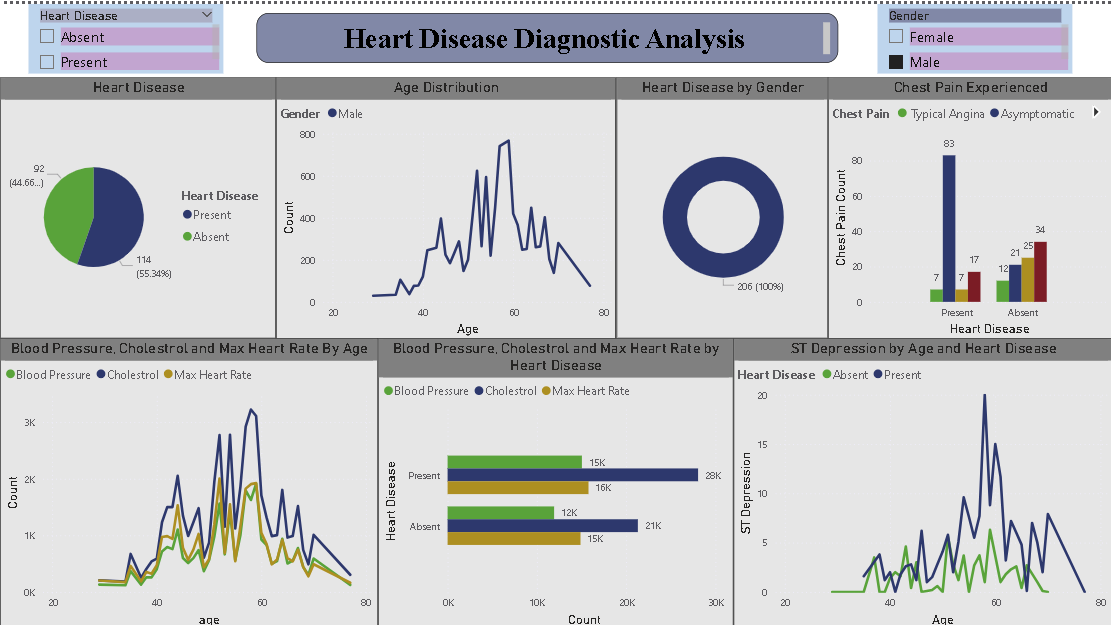

The page's visual inventory and layout, read from the dashboard file:
{"tool":"powerbi","page":{"name":"Dashboard","canvas":[1280,720],"ordinal":0},"visuals":[{"type":"donutChart","title":"Heart Disease by Gender","fields":{"Category":["heart_disease_dataset.Gender"],"Y":["CountNonNull(heart_disease_dataset.Heart Disease)"]},"box":[708.1,84.8,243.6,299.7],"z":0},{"type":"pieChart","title":"Heart Disease","fields":{"Y":["CountNonNull(heart_disease_dataset.Heart Disease)"],"Category":["heart_disease_dataset.Heart Disease"]},"box":[0,84.8,317.6,299.7],"z":1000},{"type":"lineChart","title":"Age Distribution","fields":{"Category":["heart_disease_dataset.age"],"Y":["Sum(heart_disease_dataset.age)"],"Series":["heart_disease_dataset.Gender"]},"box":[317.6,84.8,390.4,300.9],"z":2000},{"type":"clusteredColumnChart","title":"Chest Pain Experienced","fields":{"Category":["heart_disease_dataset.Heart Disease"],"Y":["CountNonNull(heart_disease_dataset.chest pain)"],"Series":["heart_disease_dataset.chest pain"]},"box":[951.6,84.8,327.2,300.9],"z":3000},{"type":"lineChart","title":"Blood Pressure, Cholestrol and Max Heart Rate By Age","fields":{"Y":["Sum(heart_disease_dataset.Blood Pressure)","Sum(heart_disease_dataset.chol)","Sum(heart_disease_dataset.thalach)"],"Category":["heart_disease_dataset.age"]},"box":[0,384.5,434.6,334.3],"z":4000},{"type":"clusteredBarChart","title":"Blood Pressure, Cholestrol and Max Heart Rate by Heart Disease","fields":{"Category":["heart_disease_dataset.Heart Disease"],"Y":["Sum(heart_disease_dataset.Blood Pressure)","Sum(heart_disease_dataset.Cholestrol)","Sum(heart_disease_dataset.Max Heart Rate)"]},"box":[434.6,384.5,408.4,334.3],"z":5000},{"type":"lineChart","title":"ST Depression by Age and Heart Disease","fields":{"Category":["heart_disease_dataset.age"],"Series":["heart_disease_dataset.Heart Disease"],"Y":["Sum(heart_disease_dataset.oldpeak)"]},"box":[843,384.5,435.8,334.3],"z":6000},{"type":"slicer","fields":{"Values":["heart_disease_dataset.Gender"]},"box":[1008,0,224,80],"z":7000},{"type":"slicer","fields":{"Values":["heart_disease_dataset.Heart Disease"]},"box":[32,0,224,80],"z":8000},{"type":"textbox","box":[294.9,10.7,668.7,57.3],"z":9000}]}

Visuals, with their boxes in screenshot pixels (x1, y1, x2, y2), scaled from the page's 1280x720 canvas onto the 1111x625 screenshot:
"Heart Disease by Gender" donutChart: (615,74,826,334)
"Heart Disease" pieChart: (0,74,276,334)
"Age Distribution" lineChart: (276,74,615,335)
"Chest Pain Experienced" clusteredColumnChart: (826,74,1110,335)
"Blood Pressure, Cholestrol and Max Heart Rate By Age" lineChart: (0,334,377,624)
"Blood Pressure, Cholestrol and Max Heart Rate by Heart Disease" clusteredBarChart: (377,334,732,624)
"ST Depression by Age and Heart Disease" lineChart: (732,334,1110,624)
slicer - heart_disease_dataset.Gender: (875,0,1069,69)
slicer - heart_disease_dataset.Heart Disease: (28,0,222,69)
textbox: (256,9,836,59)
